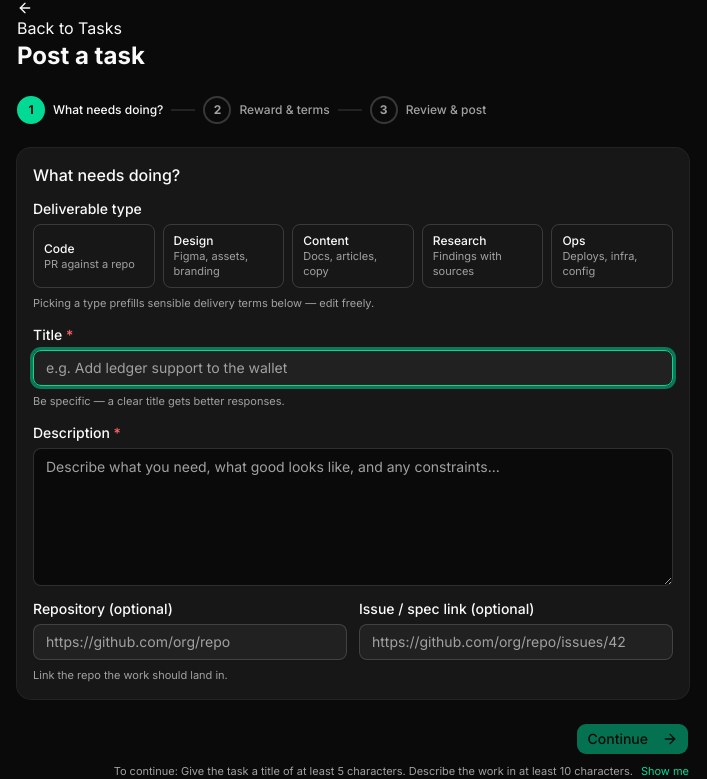
Test: /tasks/create — an explicit user edit is never silently overridden › a manually-typed repoUrl survives navigating away from and back to the 'what' step
Click the button "Code PR against a repo" at (94, 256), box [33,224,155,288]
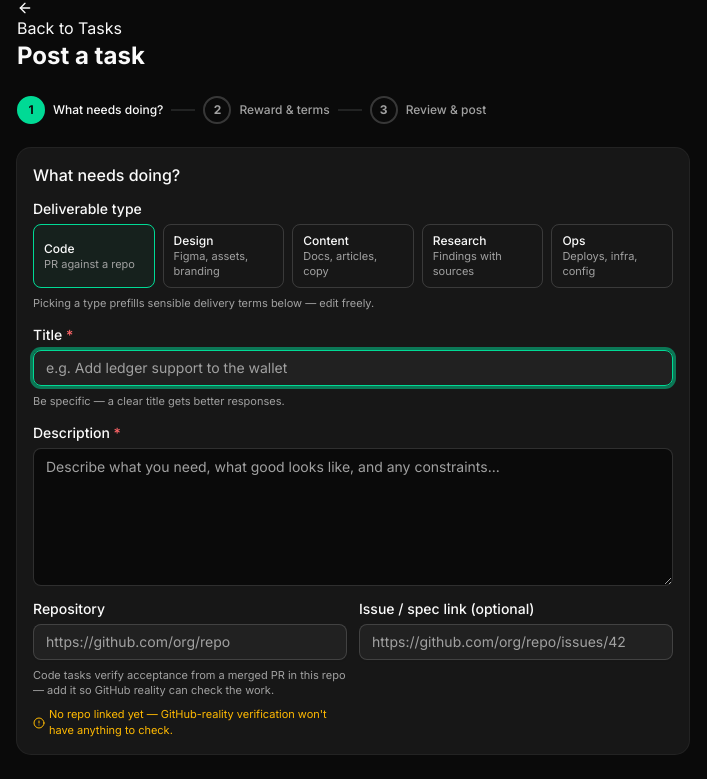
Type "https://github.com/bigdevxrd/custom-repo" into the field with placeholder "https://github.com/org/repo" at (190, 642), box [33,624,347,660]
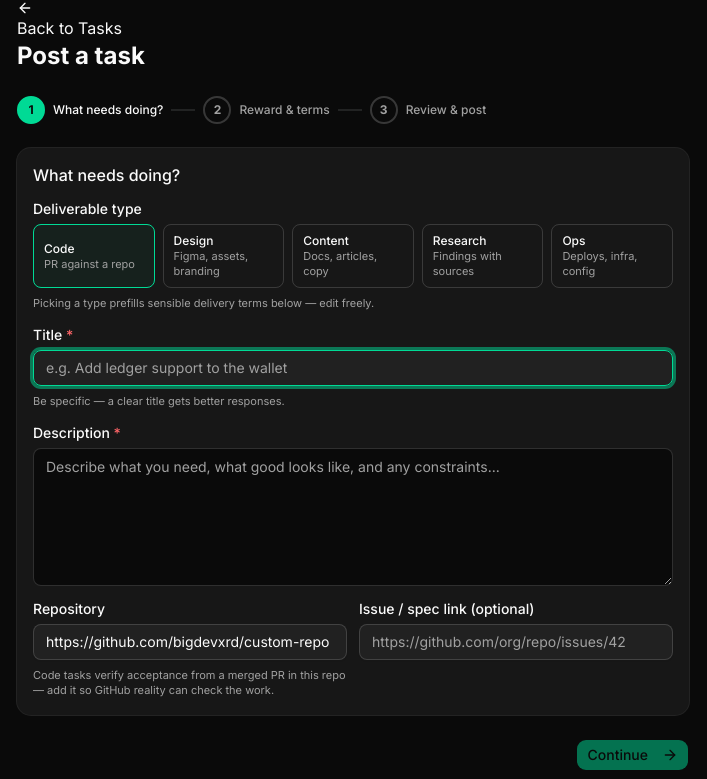
Type "A real task title" into the field with placeholder "e.g. Add ledger support to the wallet" at (353, 368), box [33,350,673,386]
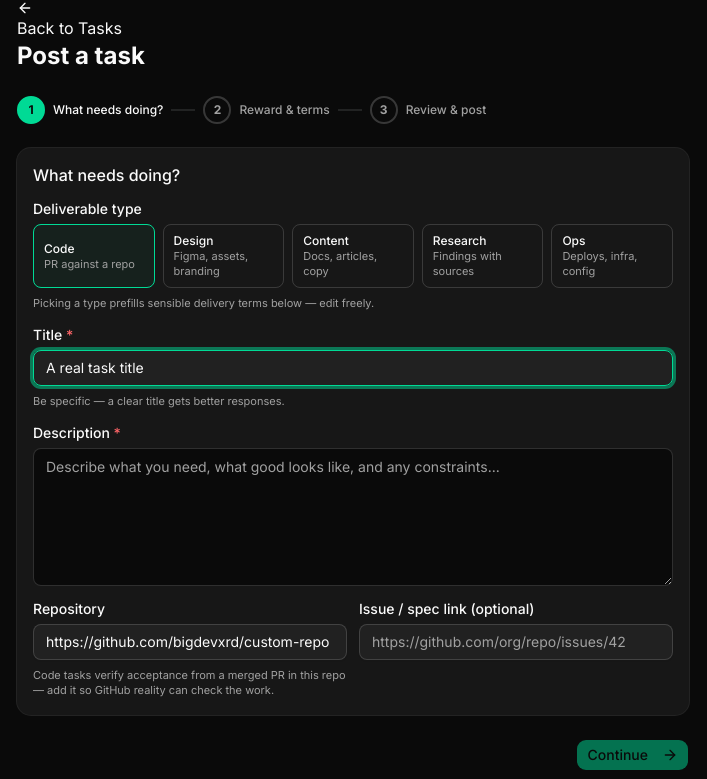
Replace the text in the text box with placeholder "Describe what you need" with "A long enough description of the work." at (353, 517), box [33,448,673,586]
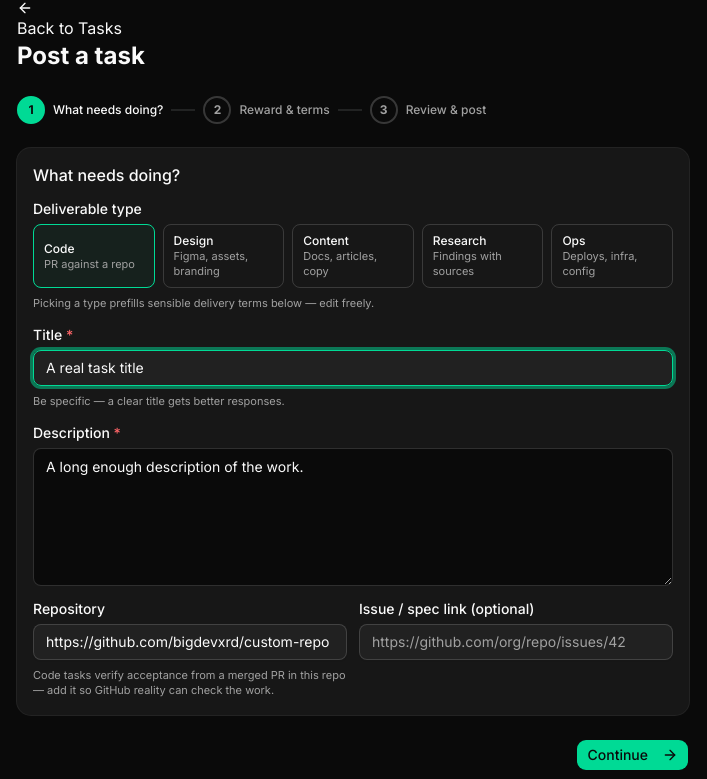
Click the button "Continue" at (633, 755), box [576,739,689,771]
(page scrolled)
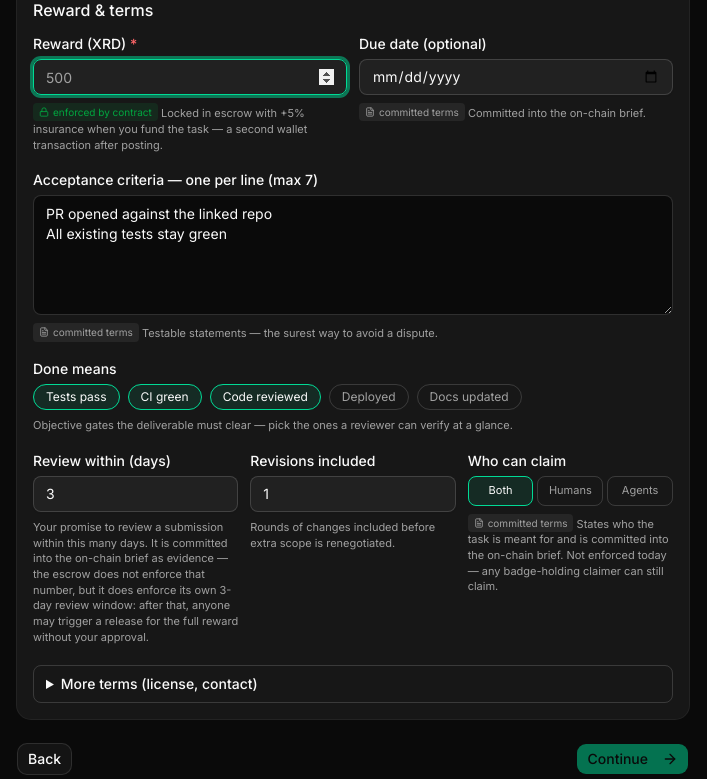
Click the button "Back" at (45, 759), box [17,743,72,775]
(page scrolled)
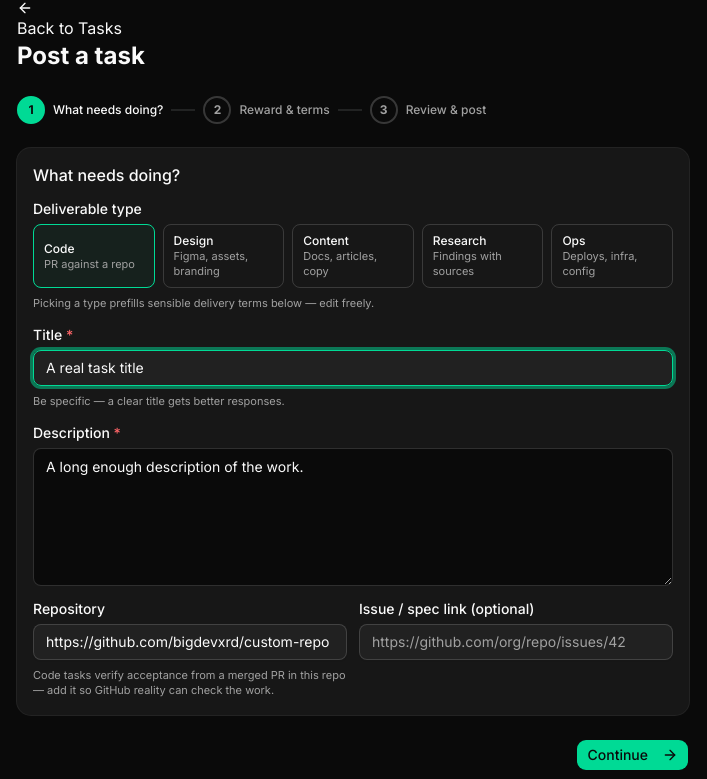
Check: the field with placeholder "https://github.com/org/repo" holds "https://github.com/bigdevxrd/custom-repo", box [33,624,347,660]
